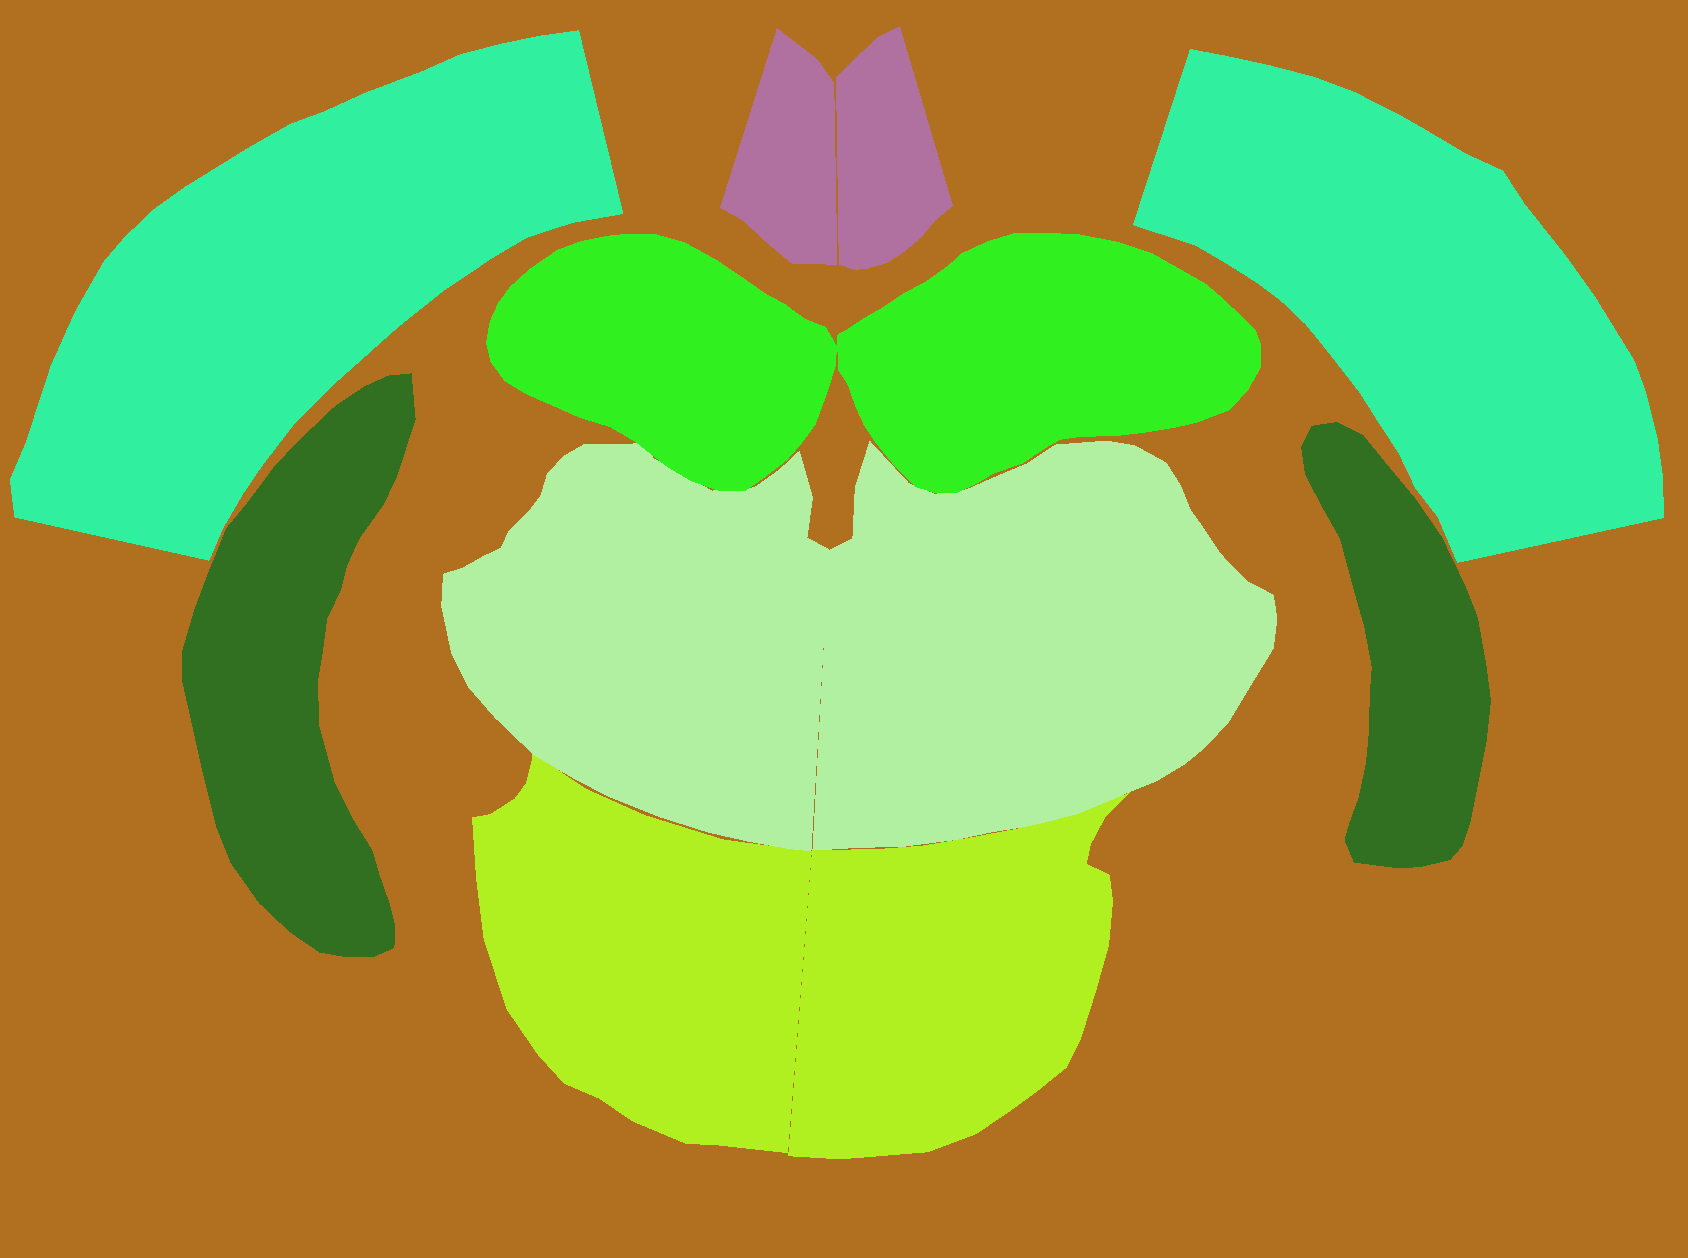Cerebral nuclei: (182, 373, 416, 957), (1301, 422, 1491, 868)
Hippocampal formation: (837, 233, 1261, 494), (486, 234, 837, 492)
Hypothalamus: (472, 752, 812, 1154), (789, 792, 1131, 1160)
Retrosplenial area: (836, 26, 954, 270), (720, 28, 837, 266)
Somatosensory area: (11, 30, 623, 560), (1133, 49, 1664, 563)
Thalamus: (812, 441, 1277, 851), (441, 443, 829, 852)
